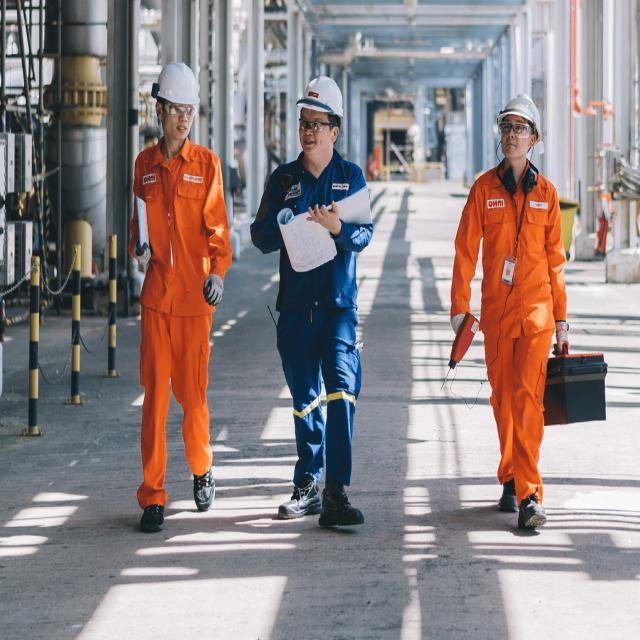Reflective-Jacket: (449, 156, 571, 420), (127, 138, 232, 321)
Safety-Helmet: (490, 87, 547, 148), (148, 56, 202, 110), (295, 69, 347, 119)
